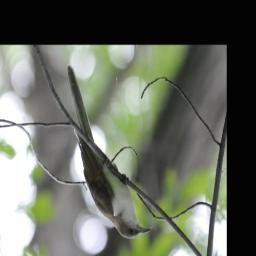Cuckoo: (64, 62, 152, 242)
